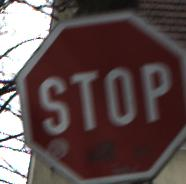Stop sign: (0, 0, 185, 183)
